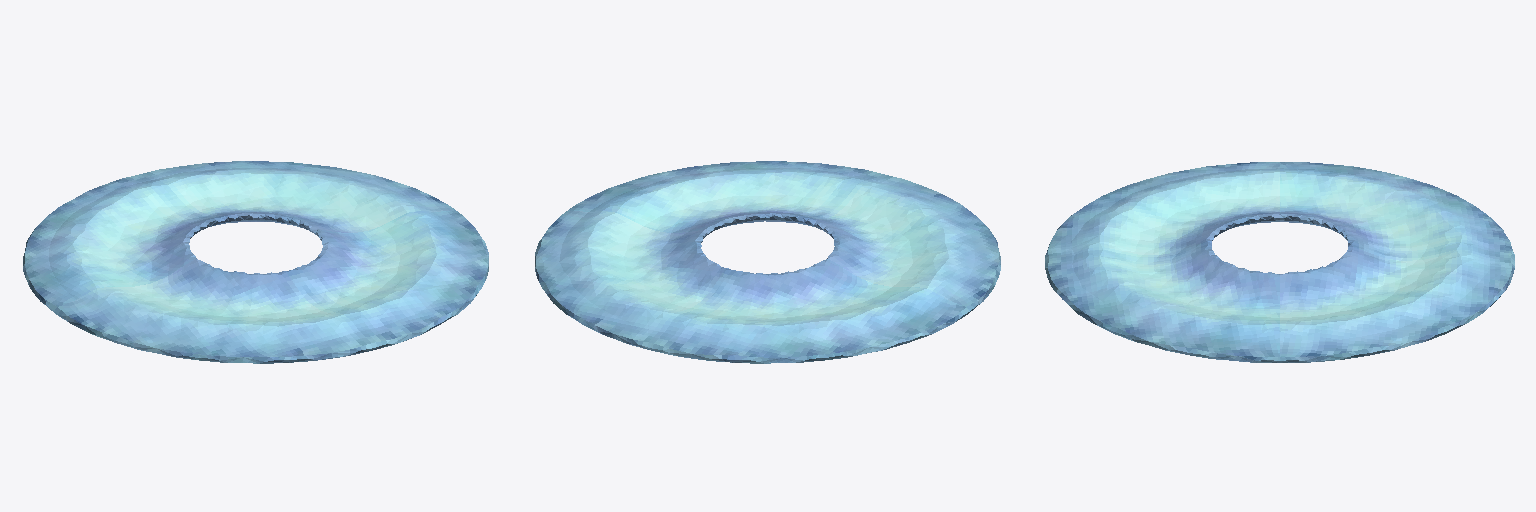
The picture shows the model from 3 angles: view 1: azimuth 30°, elevation 25°; view 2: azimuth 150°, elevation 25°; view 3: azimuth 270°, elevation 25°; orthographic projection.
Visible parts, largest first — view 1: Iris_IrisMesh; view 2: Iris_IrisMesh; view 3: Iris_IrisMesh.
Boxes of the visible parts, <box> form: Iris_IrisMesh: <box>23,161,488,363</box>; Iris_IrisMesh: <box>535,161,1000,363</box>; Iris_IrisMesh: <box>1045,162,1514,362</box>.
Size of the model in its own units: 1.09 by 0.0627 by 1.1.
Materials: 1 (1 with a texture image).